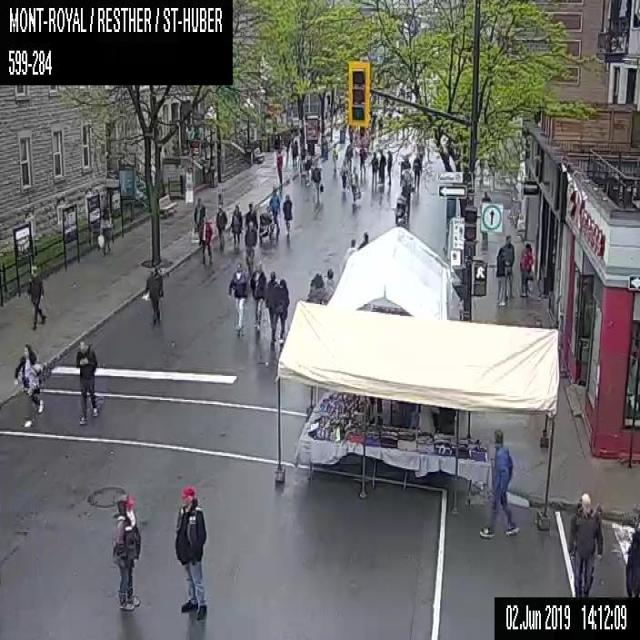pedestrian: (174, 487, 206, 620), (478, 428, 517, 537), (566, 492, 603, 595), (13, 343, 51, 427), (114, 488, 140, 608), (76, 338, 98, 424), (226, 261, 249, 337), (624, 502, 639, 594), (258, 185, 280, 242), (27, 264, 46, 329), (141, 266, 163, 322), (249, 260, 266, 329), (500, 235, 515, 298), (266, 270, 278, 346), (96, 209, 115, 256), (243, 202, 257, 262), (518, 242, 533, 297), (396, 169, 410, 224), (495, 248, 507, 304), (278, 278, 288, 342), (198, 217, 212, 262), (305, 272, 325, 302), (215, 204, 227, 248), (193, 195, 205, 238), (311, 163, 323, 205), (230, 203, 242, 245), (282, 193, 292, 236), (412, 153, 422, 191), (350, 165, 360, 202), (358, 144, 367, 182), (325, 267, 334, 301), (378, 148, 386, 182), (344, 142, 353, 172), (344, 238, 357, 258), (400, 156, 410, 182), (340, 158, 348, 190), (370, 151, 377, 186), (290, 139, 298, 166), (386, 149, 392, 183), (304, 154, 311, 183), (357, 231, 368, 249), (276, 149, 282, 182), (332, 143, 338, 173), (321, 137, 328, 160), (480, 190, 490, 202)
